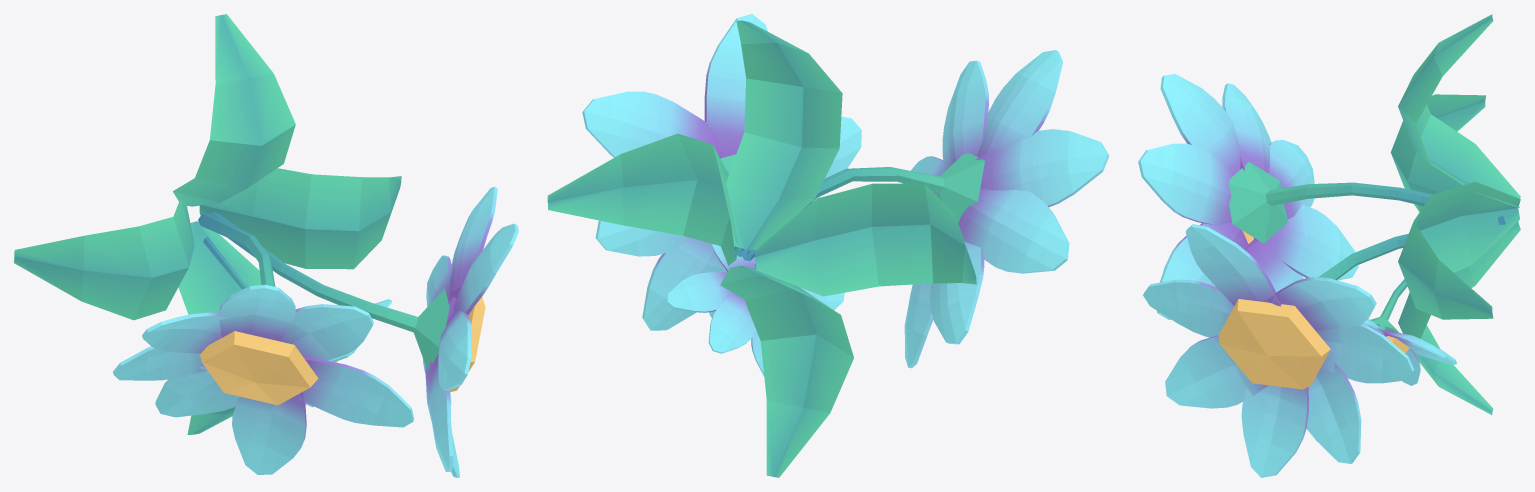
File: flower4.glb
The picture shows the model from 3 angles, left to right: view 1: azimuth 30°, elevation 25°; view 2: azimuth 150°, elevation 25°; view 3: azimuth 270°, elevation 25°; orthographic projection. The views are drawn at different scales.
Parts seen in each view (by area): view 1: flower_20; view 2: flower_20; view 3: flower_20.
Boxes of the visible parts, x1,y1,x2,y2 form: flower_20: [14, 14, 518, 477]; flower_20: [547, 14, 1109, 477]; flower_20: [1138, 14, 1520, 477].
Bounding box in the file's own units: 2.29 × 2.15 × 1.82.
1 material, 1 textured.
